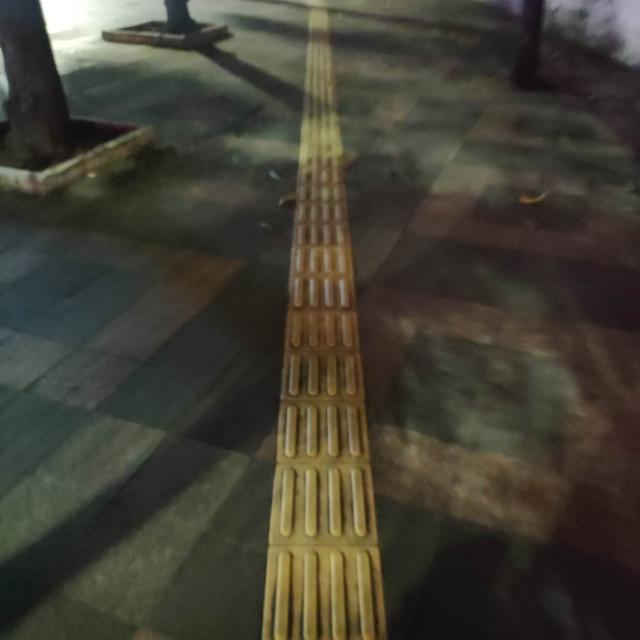lurus: (263, 57, 386, 640)
